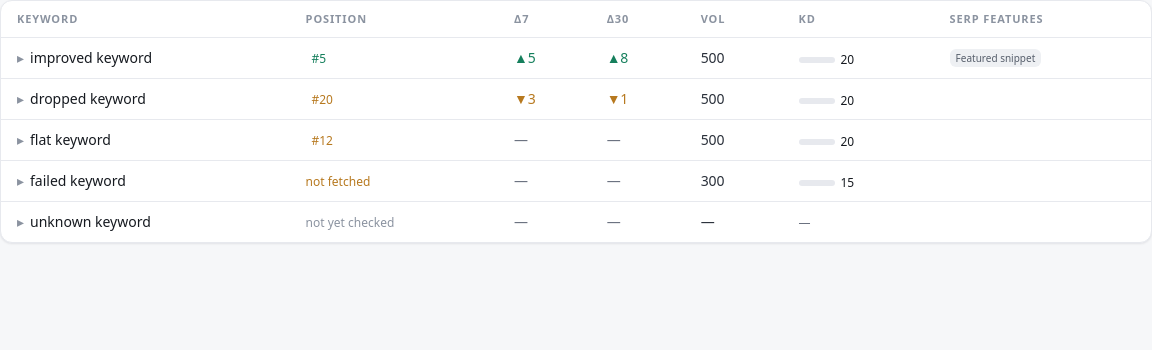
Test: RankingsTable › expands a row's drill-in and renders the sparkline once the mocked history fetch resolves
Click the button "▸ improved keyword". click: (85, 58)
box: [17, 48, 152, 68]
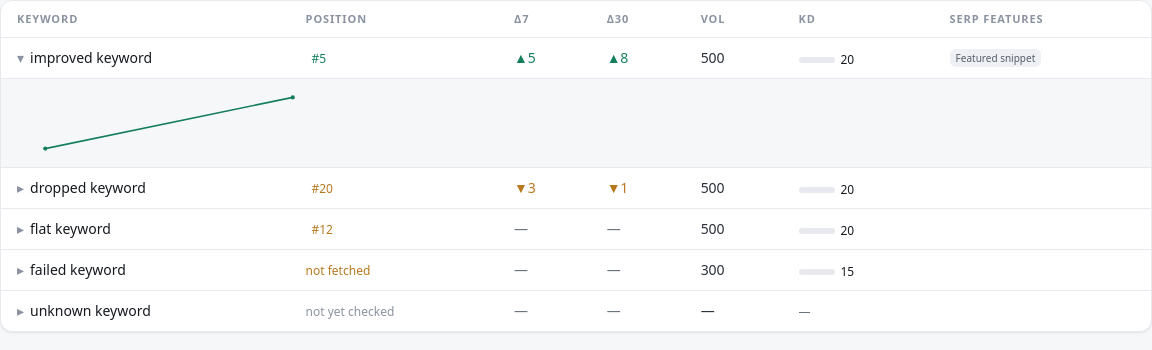
Expected: the picture with test id "rank-sparkline" is shown, [9, 91, 329, 155]
